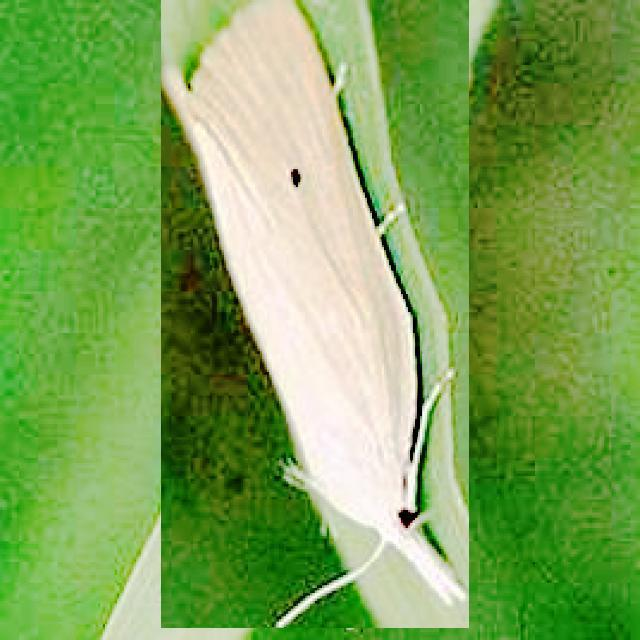stem-borer: (161, 0, 469, 628)
